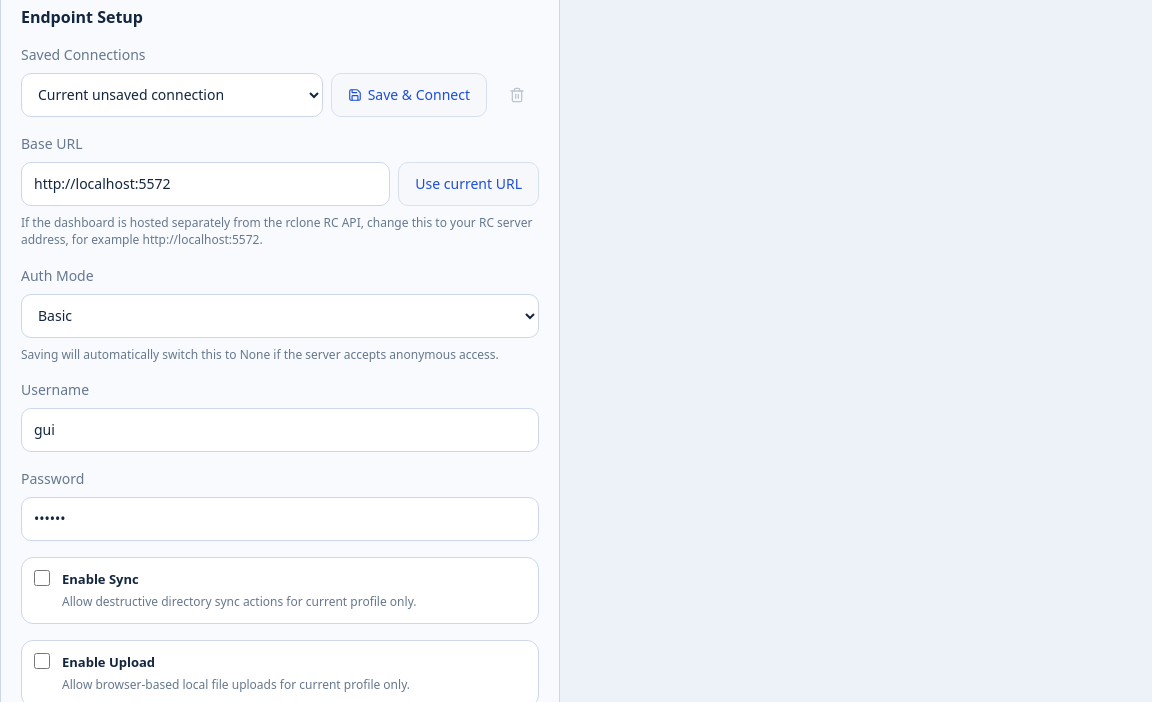
Test: ConnectPage › saves and connects the selected profile after validation
The image size is (1152, 702).
Select "Template" in the dropdown labelled "Saved Connections": (172, 95) 21,73 -> 323,117
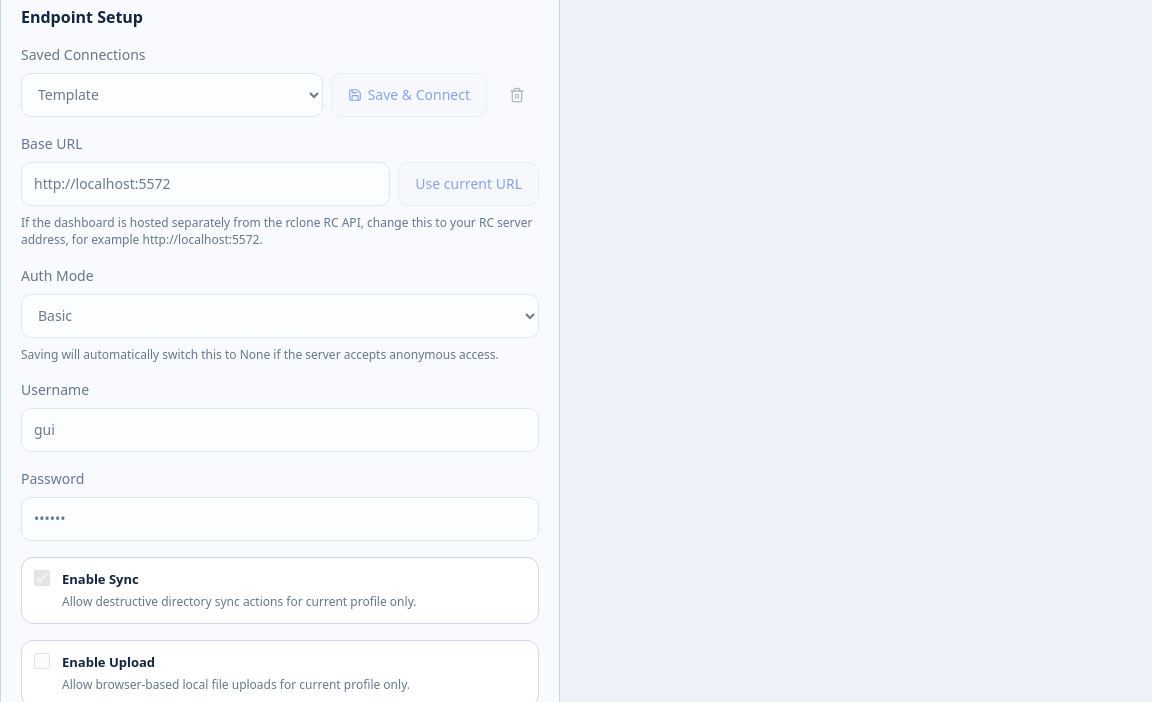
In the field showing "http://localhost:5572": (206, 184) 21,162 -> 390,206, type "http://localhost:5573"
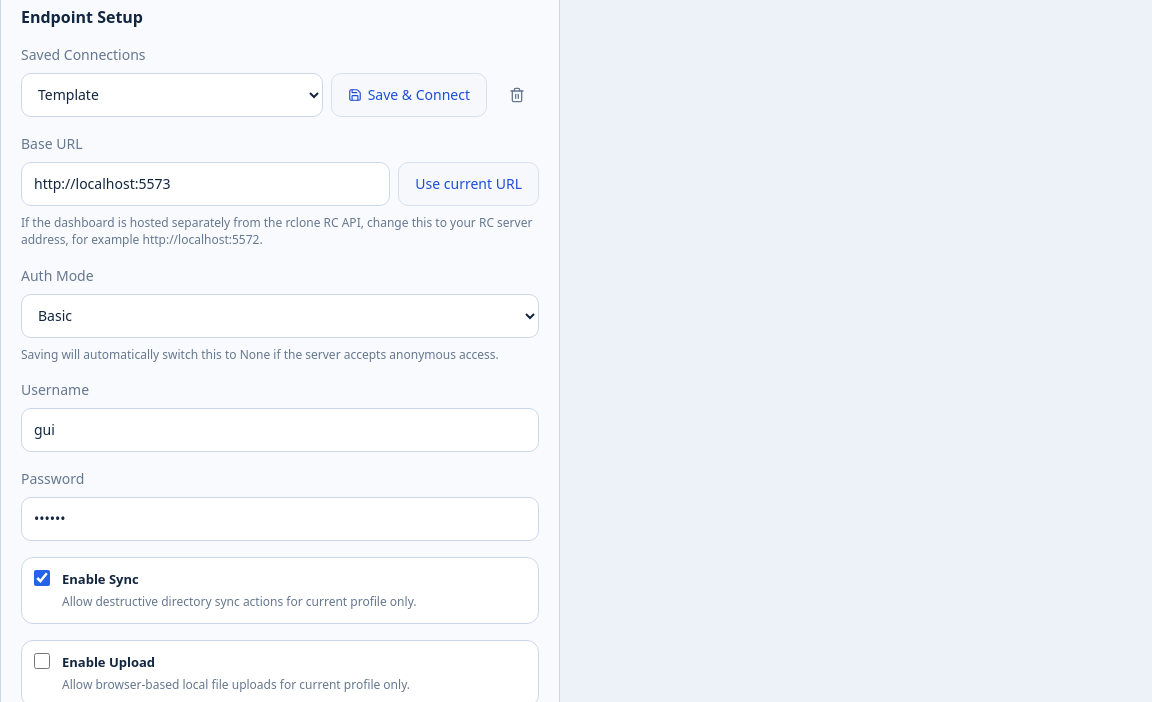
Click the button "Save & Connect": (409, 95) 331,73 -> 487,117
(page scrolled)
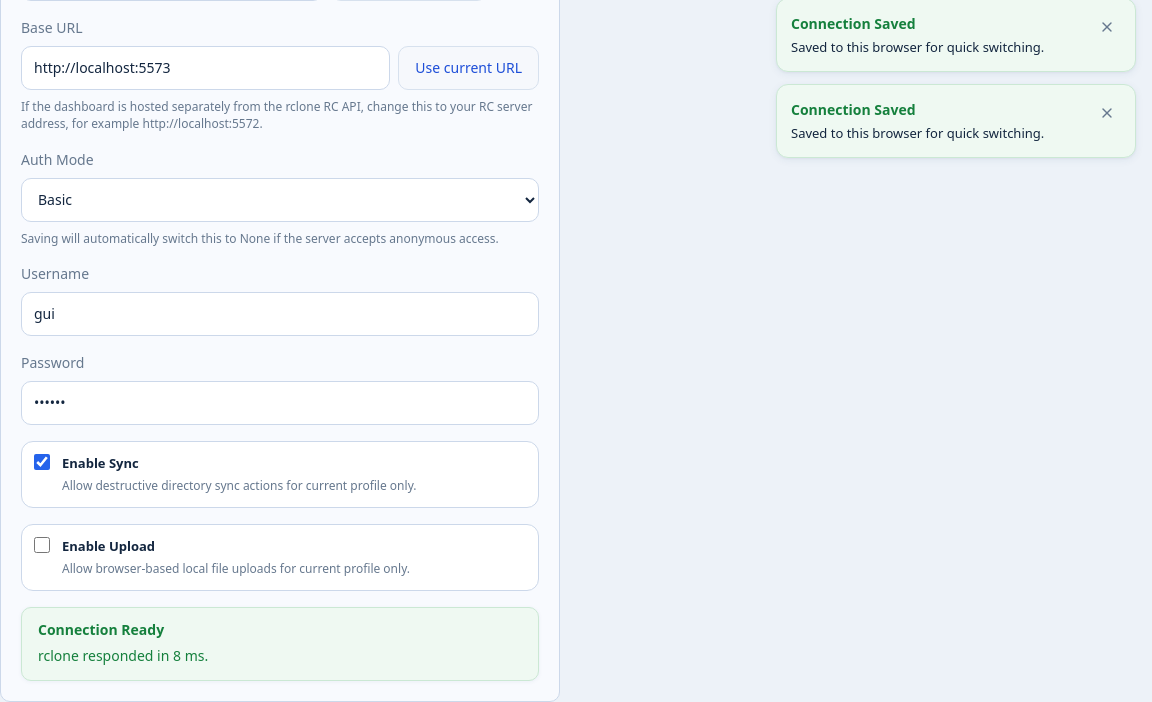
Now the heading "Connection Ready" is shown, box 38,620 -> 164,639
